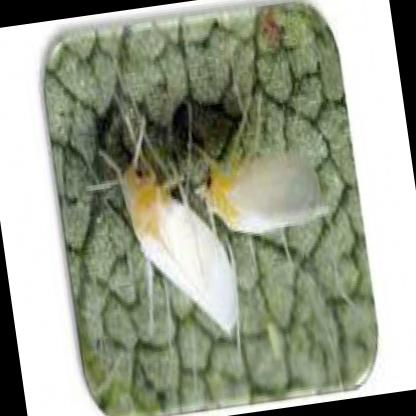whitefly: (121, 131, 238, 338), (202, 151, 326, 234)
